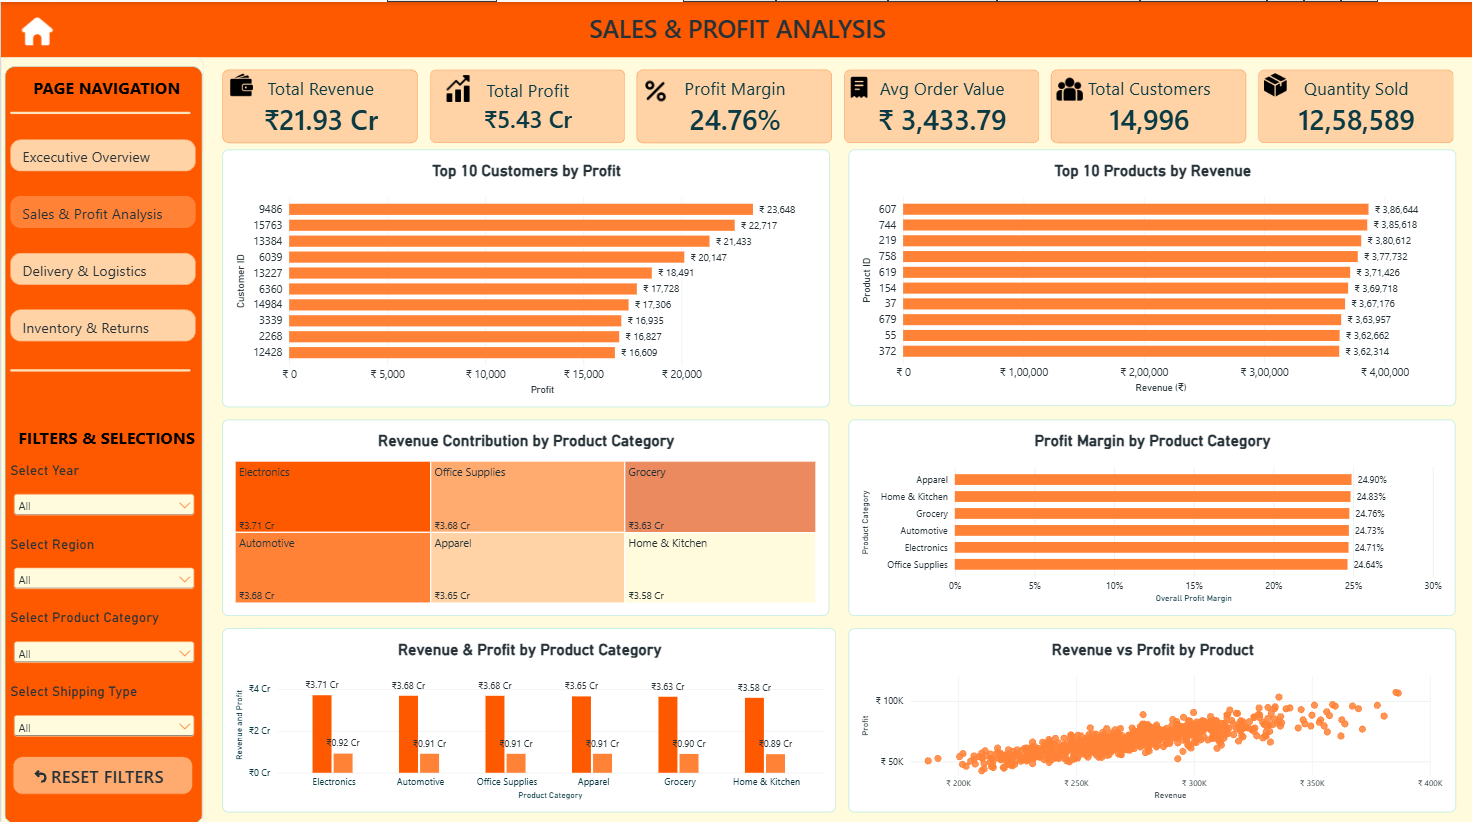

The page's visual inventory and layout, read from the dashboard file:
{"tool":"powerbi","page":{"name":"Sales & Profit Analysis","canvas":[1920,1080],"ordinal":2},"visuals":[{"type":"shape","box":[0,0,1920,72],"z":0},{"type":"textbox","box":[0,0,1920,96],"z":1000},{"type":"cardVisual","fields":{"Data":["_Measures.Total Revenue(Cr)","_Measures.Total Profit(Cr)","_Measures.Overall Profit Margin","_Measures.Average Order Value","_Measures.Total Customers","_Measures.Total Quantity Sold"]},"box":[288,88,1608,96],"z":2000},{"type":"shape","box":[0,72,264,1008],"z":3000},{"type":"slicer","title":"Select Year ","fields":{"Values":["Supply_Chain.Order_Date.Variation.Date Hierarchy.Year"]},"box":[0,600,264,72],"z":4000},{"type":"slicer","title":"Select Region","fields":{"Values":["Supply_Chain.Region"]},"box":[0,696,264,72],"z":5000},{"type":"slicer","title":"Select Product Category","fields":{"Values":["Supply_Chain.Product_Category"]},"box":[0,792,264,72],"z":6000},{"type":"slicer","title":"Select Shipping Type","fields":{"Values":["Supply_Chain.Shipping_Type"]},"box":[0,888,264,72],"z":7000},{"type":"pageNavigator","box":[0,168,264,288],"z":8000},{"type":"textbox","box":[0,96,264,72],"z":9000},{"type":"shape","box":[0,120,256,32],"z":10000},{"type":"shape","box":[0,456,256,32],"z":11000},{"type":"textbox","box":[0,552,264,72],"z":12000},{"type":"actionButton","box":[4,976,256,64],"z":13000},{"type":"clusteredColumnChart","title":"Revenue & Profit by Product Category","fields":{"Category":["Supply_Chain.Product_Category"],"Y":["_Measures.Total Revenue(Cr)","_Measures.Total Profit(Cr)"]},"box":[288,816,800,240],"z":14000},{"type":"clusteredBarChart","title":"Top 10 Products by Revenue","fields":{"Category":["Supply_Chain.Product_ID"],"Y":["_Measures.Total Revenue"]},"box":[1104,192,792,334],"z":15000},{"type":"treemap","title":"Revenue Contribution by Product Category","fields":{"Group":["Supply_Chain.Product_Category"],"Values":["_Measures.Total Revenue(Cr)"]},"box":[288,544,791,256],"z":16000},{"type":"clusteredBarChart","title":"Profit Margin by Product Category","fields":{"Category":["Supply_Chain.Product_Category"],"Y":["_Measures.Overall Profit Margin"]},"box":[1104,544,791,256],"z":17000},{"type":"clusteredBarChart","title":"Top 10 Customers by Profit","fields":{"Category":["Supply_Chain.Customer_ID"],"Y":["_Measures.Total Profit"]},"box":[288,192,792,336],"z":18000},{"type":"scatterChart","title":"Revenue vs Profit by Product","fields":{"Category":["Supply_Chain.Product_ID"],"X":["_Measures.Total Revenue"],"Y":["_Measures.Total Profit"]},"box":[1104,816,792,240],"z":19000},{"type":"actionButton","box":[0,0,95,70],"z":20000},{"type":"image","box":[288.7,88.3,40,40],"z":21000},{"type":"image","box":[565.5,88.3,50,50],"z":22000},{"type":"image","box":[823.1,90.7,50,50],"z":23000},{"type":"image","box":[1092.7,90.7,40,40],"z":24000},{"type":"image","box":[1364.7,90.7,45,45],"z":25000},{"type":"image","box":[1636.7,88.3,40,40],"z":26000}]}

Visuals, with their boxes in screenshot pixels (x1, y1, x2, y2), scaled from the page's 1920x1080 canvas onto the 1472x822 screenshot:
shape: (left=0, top=0, right=1471, bottom=55)
textbox: (left=0, top=0, right=1471, bottom=73)
cardVisual - _Measures.Total Revenue(Cr) x _Measures.Total Profit(Cr): (left=221, top=67, right=1454, bottom=140)
shape: (left=0, top=55, right=202, bottom=821)
"Select Year " slicer: (left=0, top=457, right=202, bottom=511)
"Select Region" slicer: (left=0, top=530, right=202, bottom=585)
"Select Product Category" slicer: (left=0, top=603, right=202, bottom=658)
"Select Shipping Type" slicer: (left=0, top=676, right=202, bottom=731)
pageNavigator: (left=0, top=128, right=202, bottom=347)
textbox: (left=0, top=73, right=202, bottom=128)
shape: (left=0, top=91, right=196, bottom=116)
shape: (left=0, top=347, right=196, bottom=371)
textbox: (left=0, top=420, right=202, bottom=475)
actionButton: (left=3, top=743, right=199, bottom=792)
"Revenue & Profit by Product Category" clusteredColumnChart: (left=221, top=621, right=834, bottom=804)
"Top 10 Products by Revenue" clusteredBarChart: (left=846, top=146, right=1454, bottom=400)
"Revenue Contribution by Product Category" treemap: (left=221, top=414, right=827, bottom=609)
"Profit Margin by Product Category" clusteredBarChart: (left=846, top=414, right=1453, bottom=609)
"Top 10 Customers by Profit" clusteredBarChart: (left=221, top=146, right=828, bottom=402)
"Revenue vs Profit by Product" scatterChart: (left=846, top=621, right=1454, bottom=804)
actionButton: (left=0, top=0, right=73, bottom=53)
image: (left=221, top=67, right=252, bottom=98)
image: (left=434, top=67, right=472, bottom=105)
image: (left=631, top=69, right=669, bottom=107)
image: (left=838, top=69, right=868, bottom=99)
image: (left=1046, top=69, right=1081, bottom=103)
image: (left=1255, top=67, right=1285, bottom=98)
